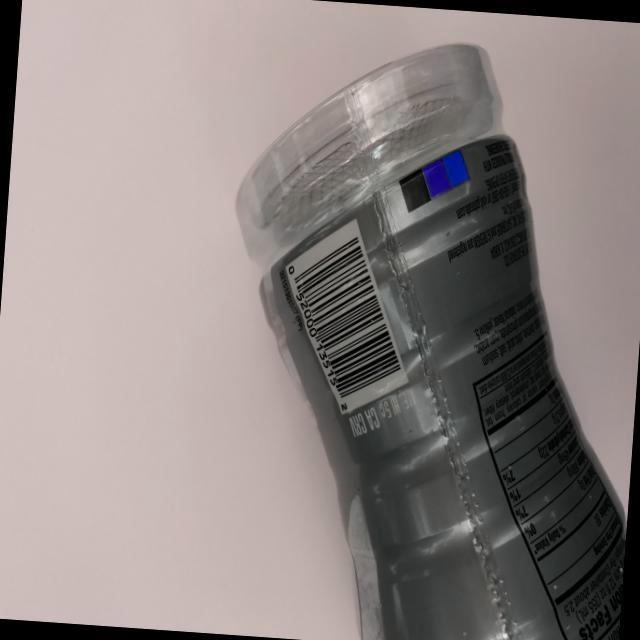plastic: (201, 0, 640, 640)
